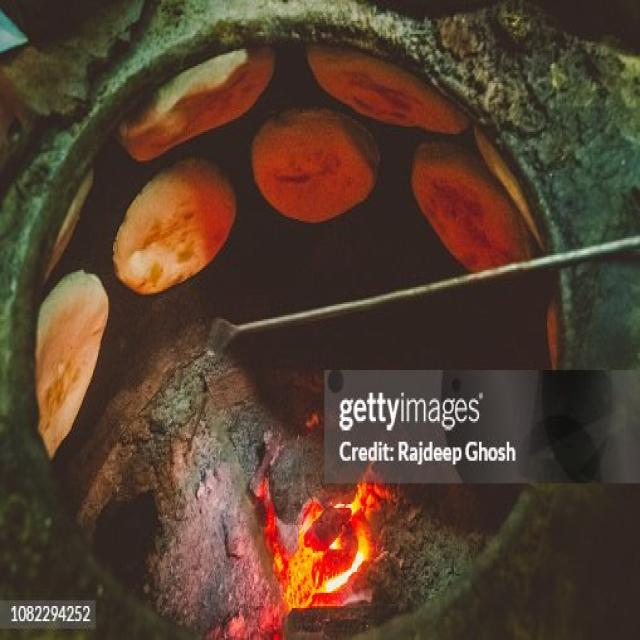fire: (273, 545, 323, 609), (323, 551, 365, 593), (297, 500, 326, 544)
